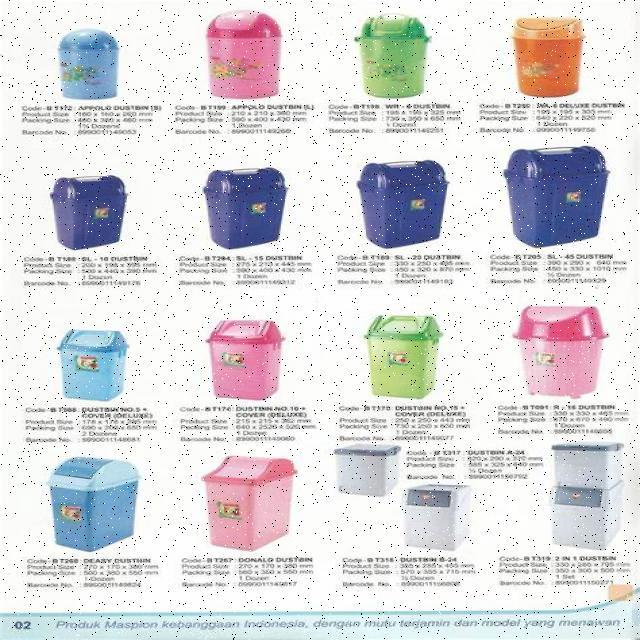garbage container: (29, 450, 185, 557), (21, 310, 173, 404), (494, 141, 625, 250), (32, 148, 162, 257), (191, 3, 329, 103), (196, 146, 315, 258), (194, 451, 319, 556), (496, 7, 628, 106), (504, 297, 630, 400), (16, 19, 164, 104), (345, 157, 475, 253), (191, 315, 329, 405), (345, 7, 475, 102), (351, 310, 479, 403), (410, 486, 479, 557), (334, 444, 410, 504), (553, 497, 627, 554), (553, 441, 630, 494)
